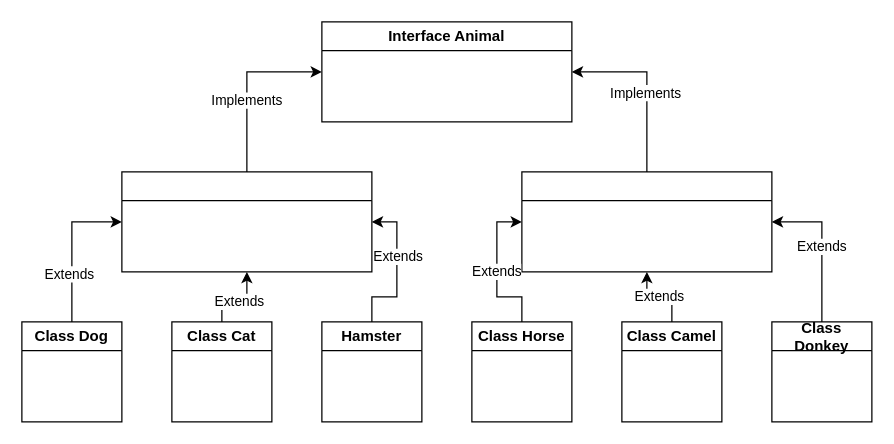
The diagram is 894 pixels wide and 444 high, and some of its shapes have lost their labels. The shapes that lost their labels are listed below. From the top down, each one's box as (x1, y1, x2, y2) in pixels, then its label:
(121, 171, 372, 272): Class Pet
(521, 171, 772, 272): Class PackAnimal
